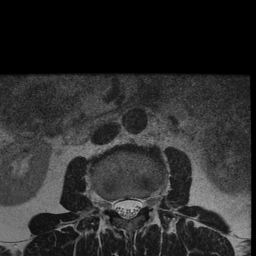CCS_normal: (123, 191, 133, 225)
LFS_normal: (142, 190, 151, 215)
LLS_normal: (133, 190, 142, 219)
RFS_normal: (104, 191, 113, 217)
RLS_normal: (113, 193, 123, 221)
